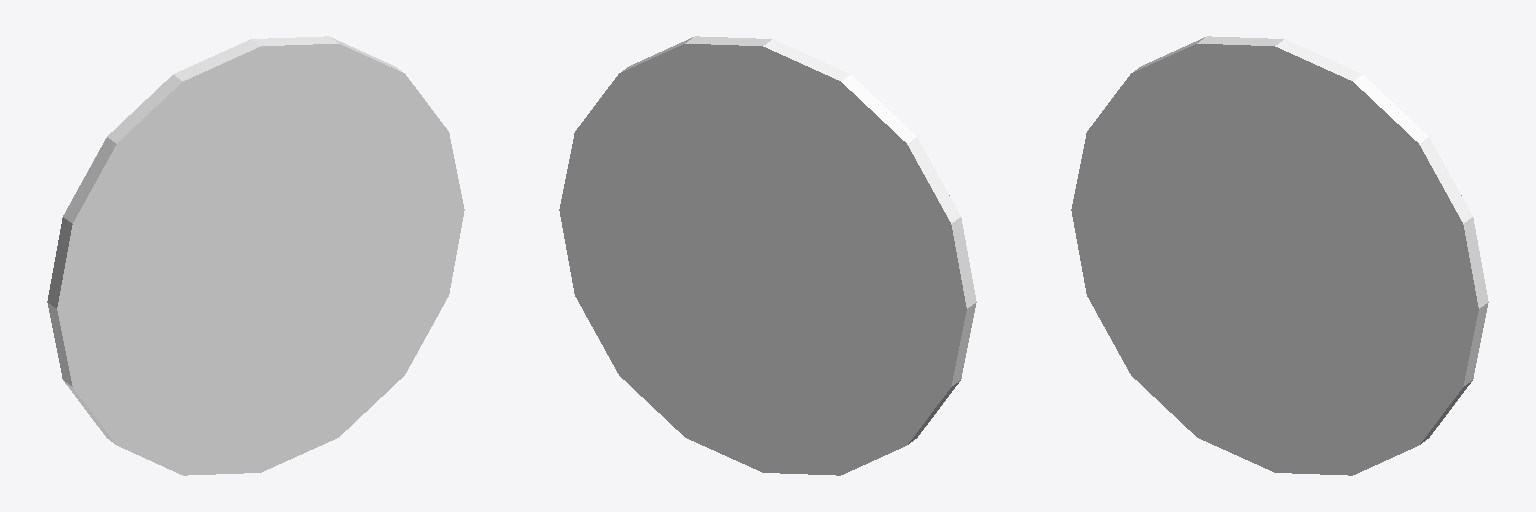
The model's file is alen.obj.
3 views of the same model, side by side, from view 1: azimuth 30°, elevation 25°; view 2: azimuth 150°, elevation 25°; view 3: azimuth 330°, elevation 25° (orthographic).
Parts seen in each view (by area): view 1: Cylinder2; view 2: Cylinder2; view 3: Cylinder2.
Part boxes in pixels (bbox=[...]): Cylinder2: bbox=[47, 36, 464, 475]; Cylinder2: bbox=[559, 36, 976, 475]; Cylinder2: bbox=[1071, 36, 1488, 475].
Size of the model in its own units: 0.74 by 0.74 by 0.0311.